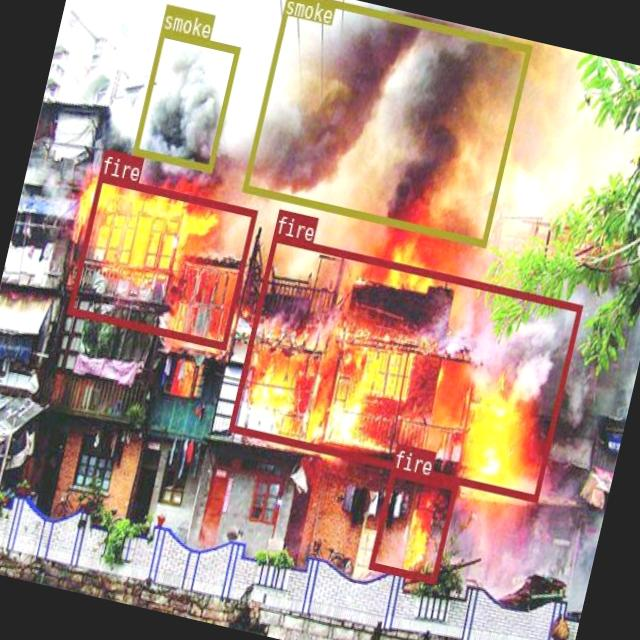fire: (228, 233, 581, 500), (66, 172, 256, 350), (368, 466, 457, 582)
smoke: (241, 0, 531, 245), (131, 27, 239, 172)
